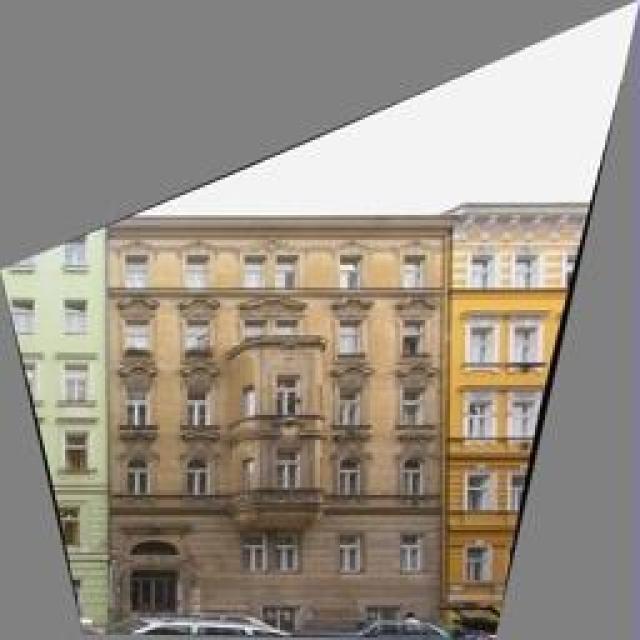building: (110, 185, 445, 640)
